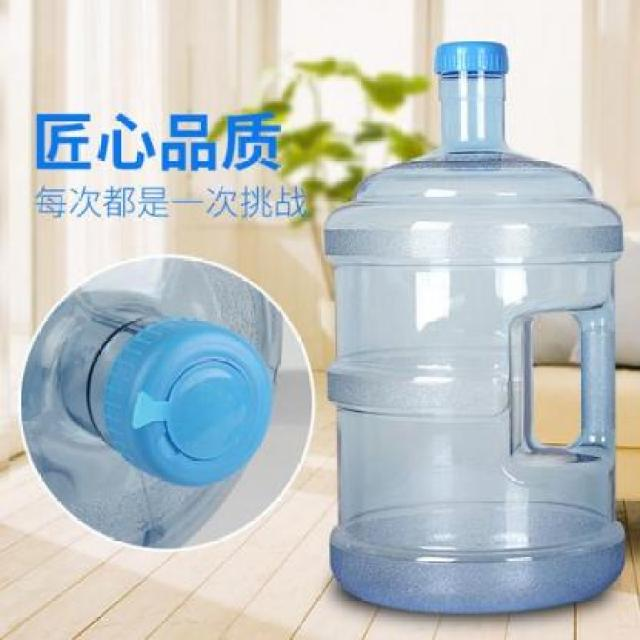coolerbottle: (322, 35, 629, 621)
